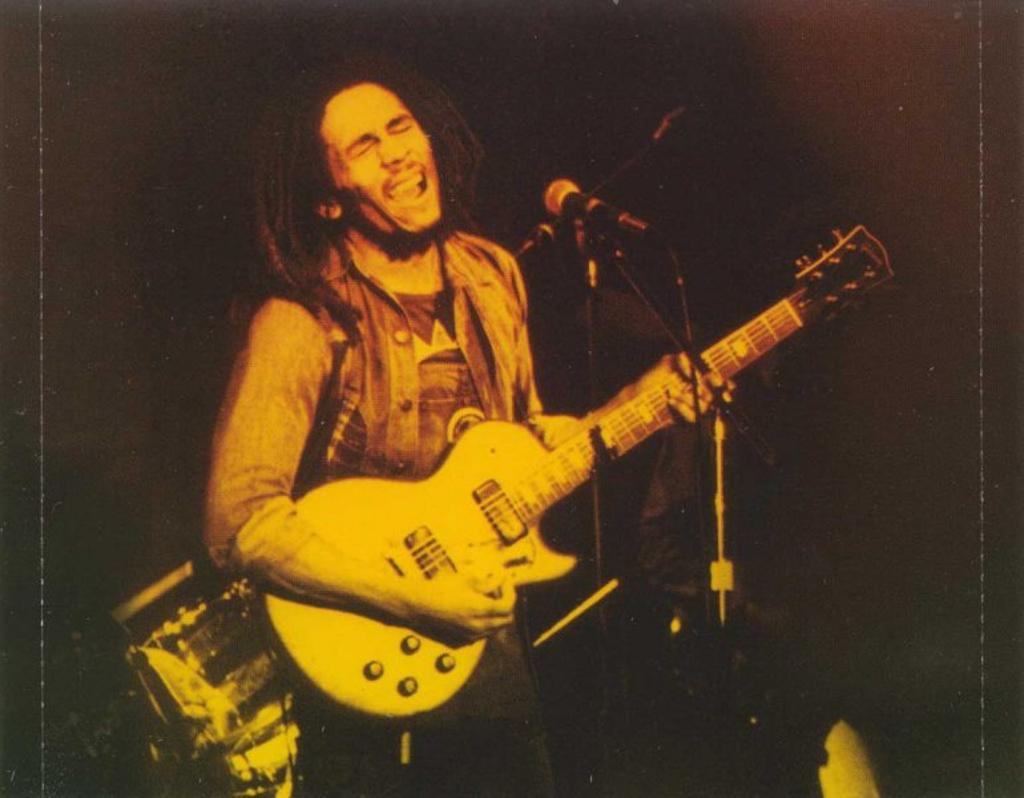face: (325, 77, 449, 233)
